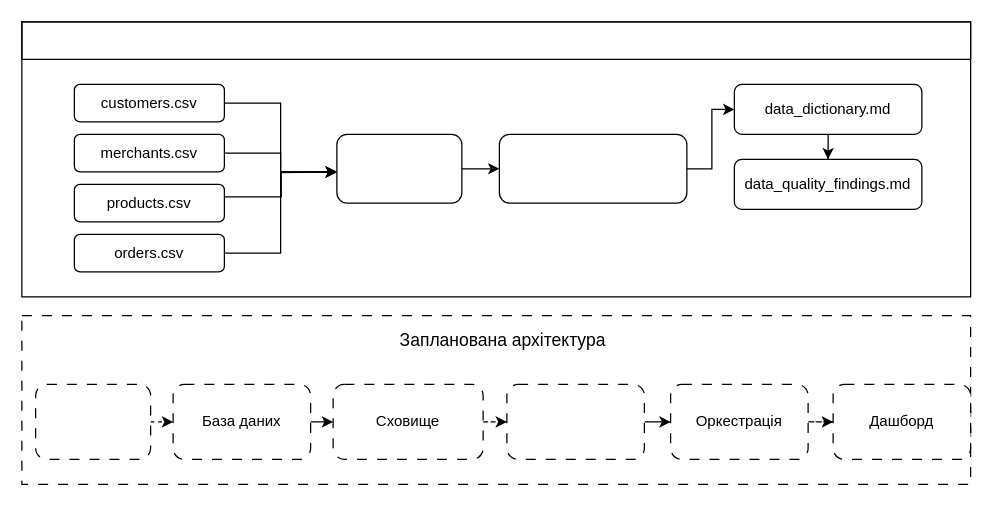
The diagram is 1006 pixels wide and 506 high, and some of its shapes have lost their labels. Each missing label, with the centre of its shape:
"01_source_profiling.ipynb" goes at [592,168].
"APi" goes at [92,421].
"data/raw" goes at [399,168].
"Git repository" goes at [496,40].
"Трансформації" goes at [575,421].
